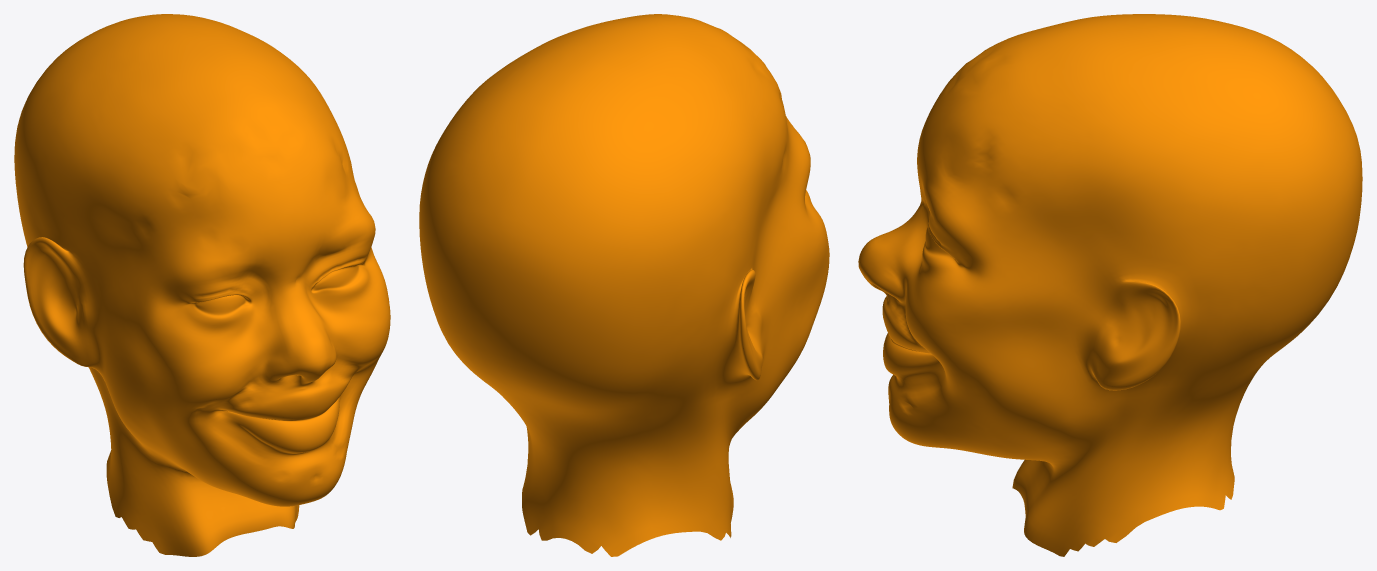
The model's file is head_orange.glb.
3 views of the same model, side by side, from view 1: azimuth 30°, elevation 25°; view 2: azimuth 150°, elevation 25°; view 3: azimuth 270°, elevation 25° (orthographic). The views are drawn at different scales.
Visible parts, largest first — view 1: FaceBuilderHead.002; view 2: FaceBuilderHead.002; view 3: FaceBuilderHead.002.
Boxes of the visible parts, <box> form: FaceBuilderHead.002: <box>14,14,390,556</box>; FaceBuilderHead.002: <box>419,14,829,556</box>; FaceBuilderHead.002: <box>858,14,1362,556</box>.
Bounding box in the file's own units: 1.96 × 2.91 × 2.69.
